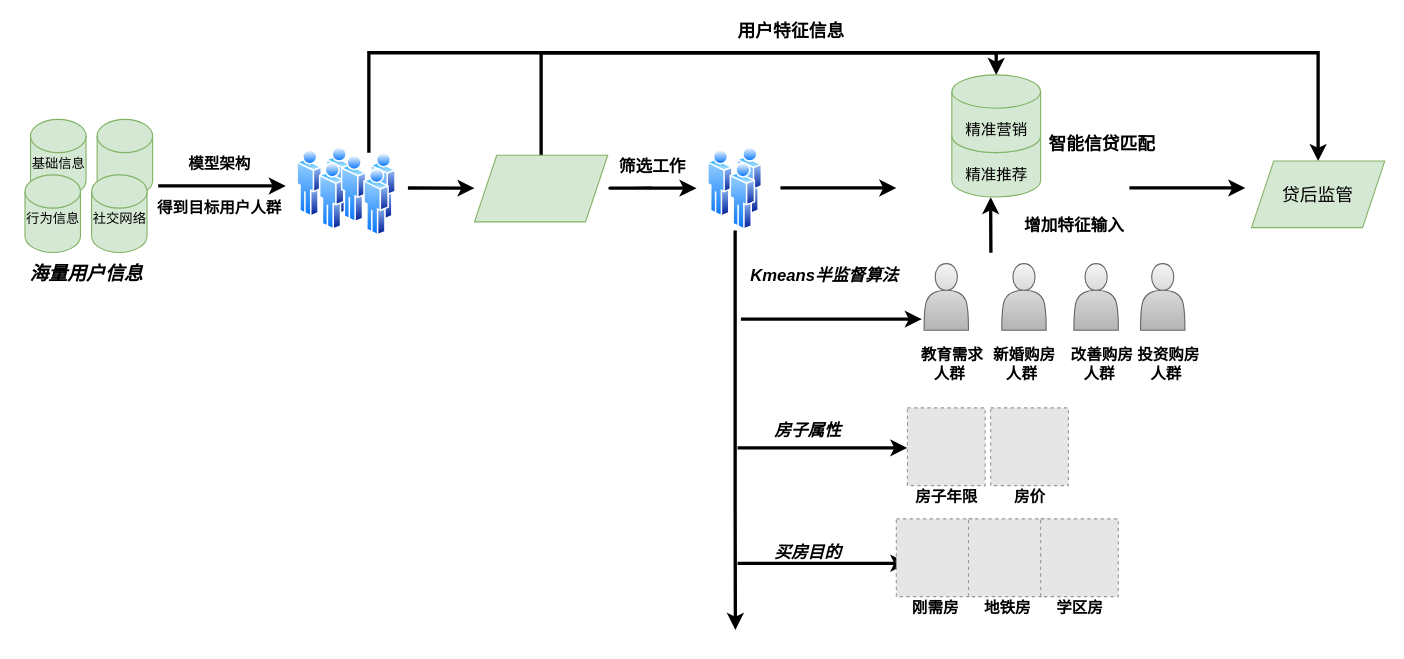
Some shapes in this 1404 by 659 pixel diagram are drawn without their labels. Grey dashed boxes stand in for pictures. Here are the shapes that lost their labels. From the top down, the centre of each, then its label:
At pixel 124 157: "位置信息".
At pixel 540 188: "信用预评估".
